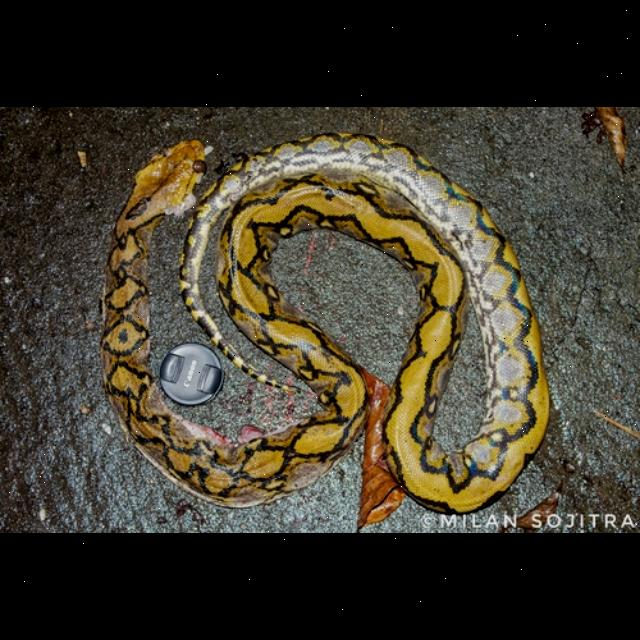snake: (97, 135, 556, 533)
